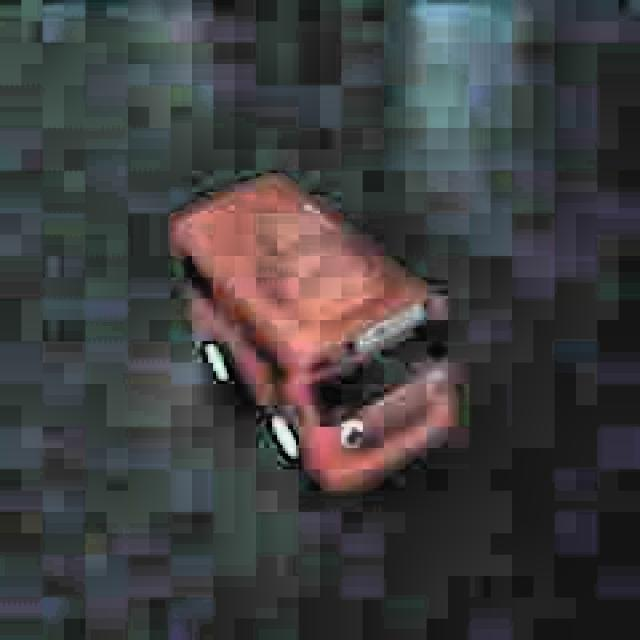bus: (170, 168, 458, 487)
